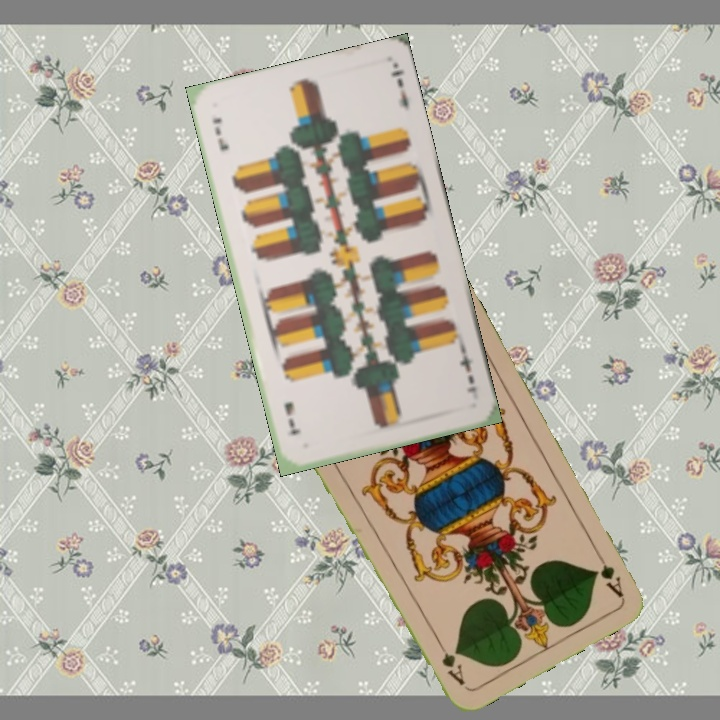E7: (455, 343, 480, 396), (209, 113, 232, 154)
GA: (590, 545, 626, 600)
